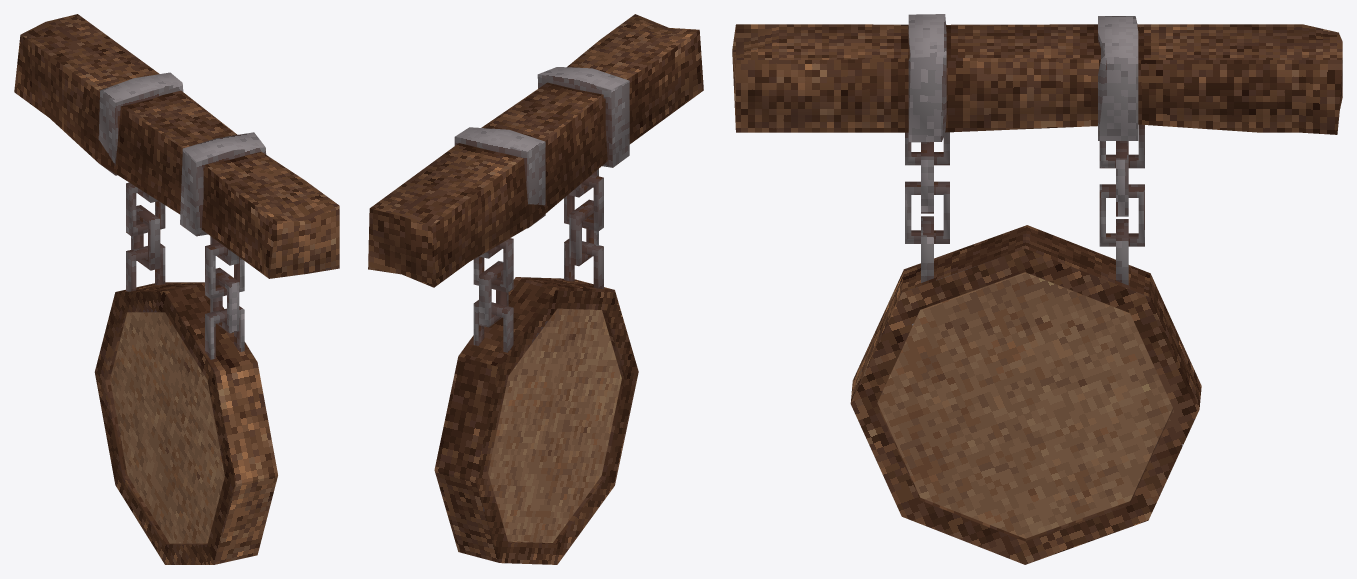
The model's file is Shop_Sign_2.gltf.
3 views of the same model, side by side, from view 1: azimuth 30°, elevation 25°; view 2: azimuth 150°, elevation 25°; view 3: azimuth 270°, elevation 25° (orthographic). The views are drawn at different scales.
Visible parts, largest first — view 1: Shop_Sign_2; view 2: Shop_Sign_2; view 3: Shop_Sign_2.
Part boxes in pixels (box(x1,y1,x2,y2)): Shop_Sign_2: box(14, 14, 339, 564); Shop_Sign_2: box(368, 14, 703, 564); Shop_Sign_2: box(732, 14, 1342, 564).
Bounding box in the file's own units: 0.8511 × 4.85 × 5.17.
Materials: 1 (1 with a texture image).
